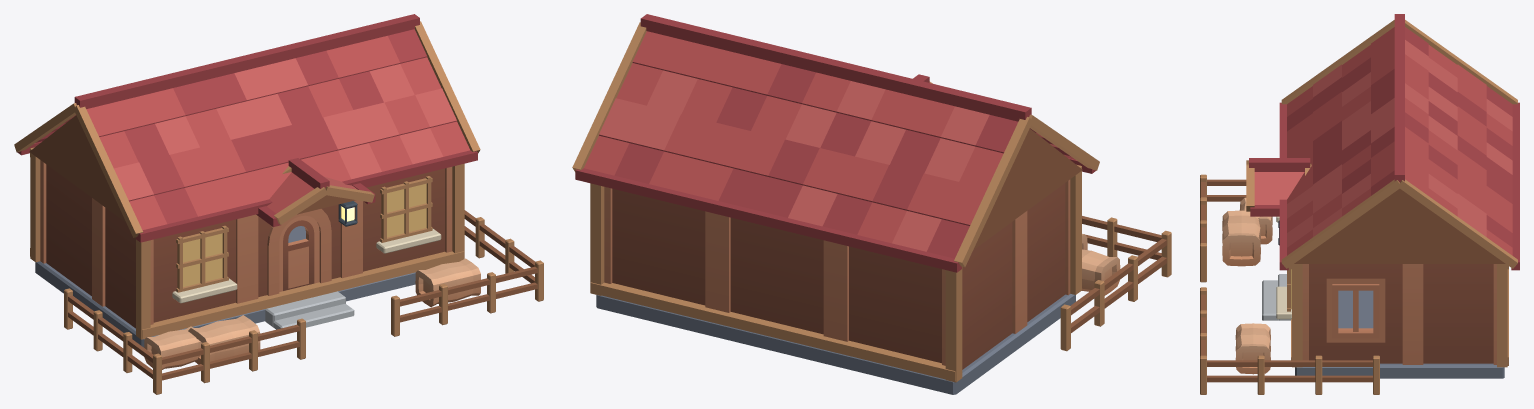
File: ranch_house.glb
The picture shows the model from 3 angles, left to right: view 1: azimuth 30°, elevation 25°; view 2: azimuth 150°, elevation 25°; view 3: azimuth 270°, elevation 25°; orthographic projection. The views are drawn at different scales.
Parts seen in each view (by area): view 1: ranch_house_建筑共用调色板.036, ranch_house_fantasy-town-kit 调色板, ranch_house_graveyard-kit 调色板; view 2: ranch_house_建筑共用调色板.036, ranch_house_fantasy-town-kit 调色板, ranch_house_graveyard-kit 调色板; view 3: ranch_house_建筑共用调色板.036, ranch_house_fantasy-town-kit 调色板, ranch_house_graveyard-kit 调色板.
Boxes of the visible parts, <box> form: ranch_house_建筑共用调色板.036: <box>14,14,543,394</box>; ranch_house_fantasy-town-kit 调色板: <box>40,160,452,328</box>; ranch_house_graveyard-kit 调色板: <box>144,258,480,369</box>; ranch_house_建筑共用调色板.036: <box>572,14,1171,394</box>; ranch_house_fantasy-town-kit 调色板: <box>604,179,1070,369</box>; ranch_house_graveyard-kit 调色板: <box>1082,234,1120,295</box>; ranch_house_建筑共用调色板.036: <box>1200,14,1519,394</box>; ranch_house_fantasy-town-kit 调色板: <box>1302,264,1496,364</box>; ranch_house_graveyard-kit 调色板: <box>1222,197,1272,374</box>.
Size of the model in its own units: 7.42 by 3.93 by 5.46.
Materials: 4 (3 with a texture image).
